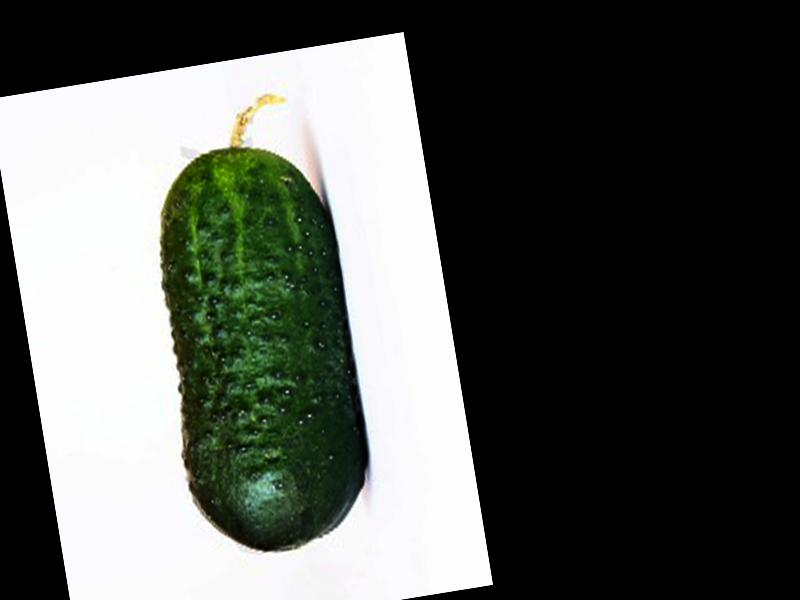Cucumber: (125, 86, 383, 562)
